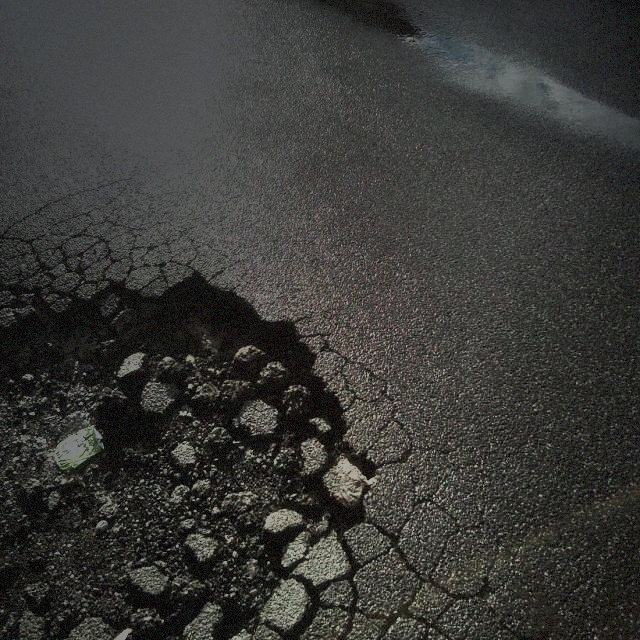pothole: (13, 255, 354, 598)
